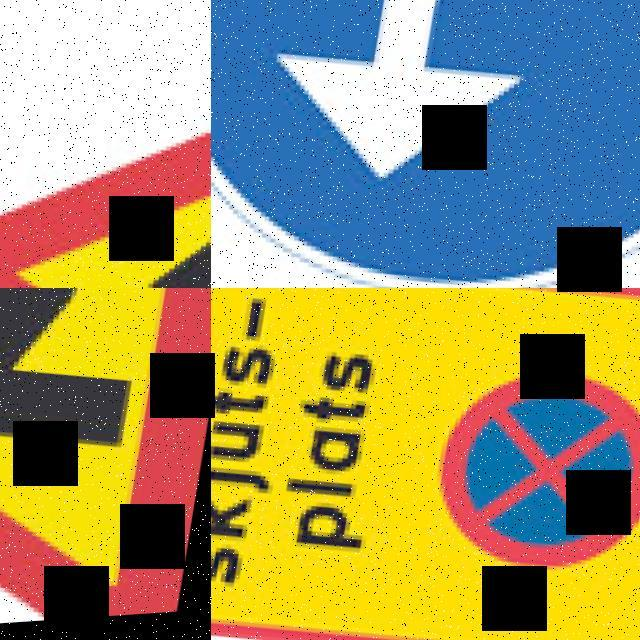139: (0, 288, 211, 640)
166: (0, 0, 211, 288)
177: (211, 288, 640, 640)
Turn left: (211, 0, 640, 288)
